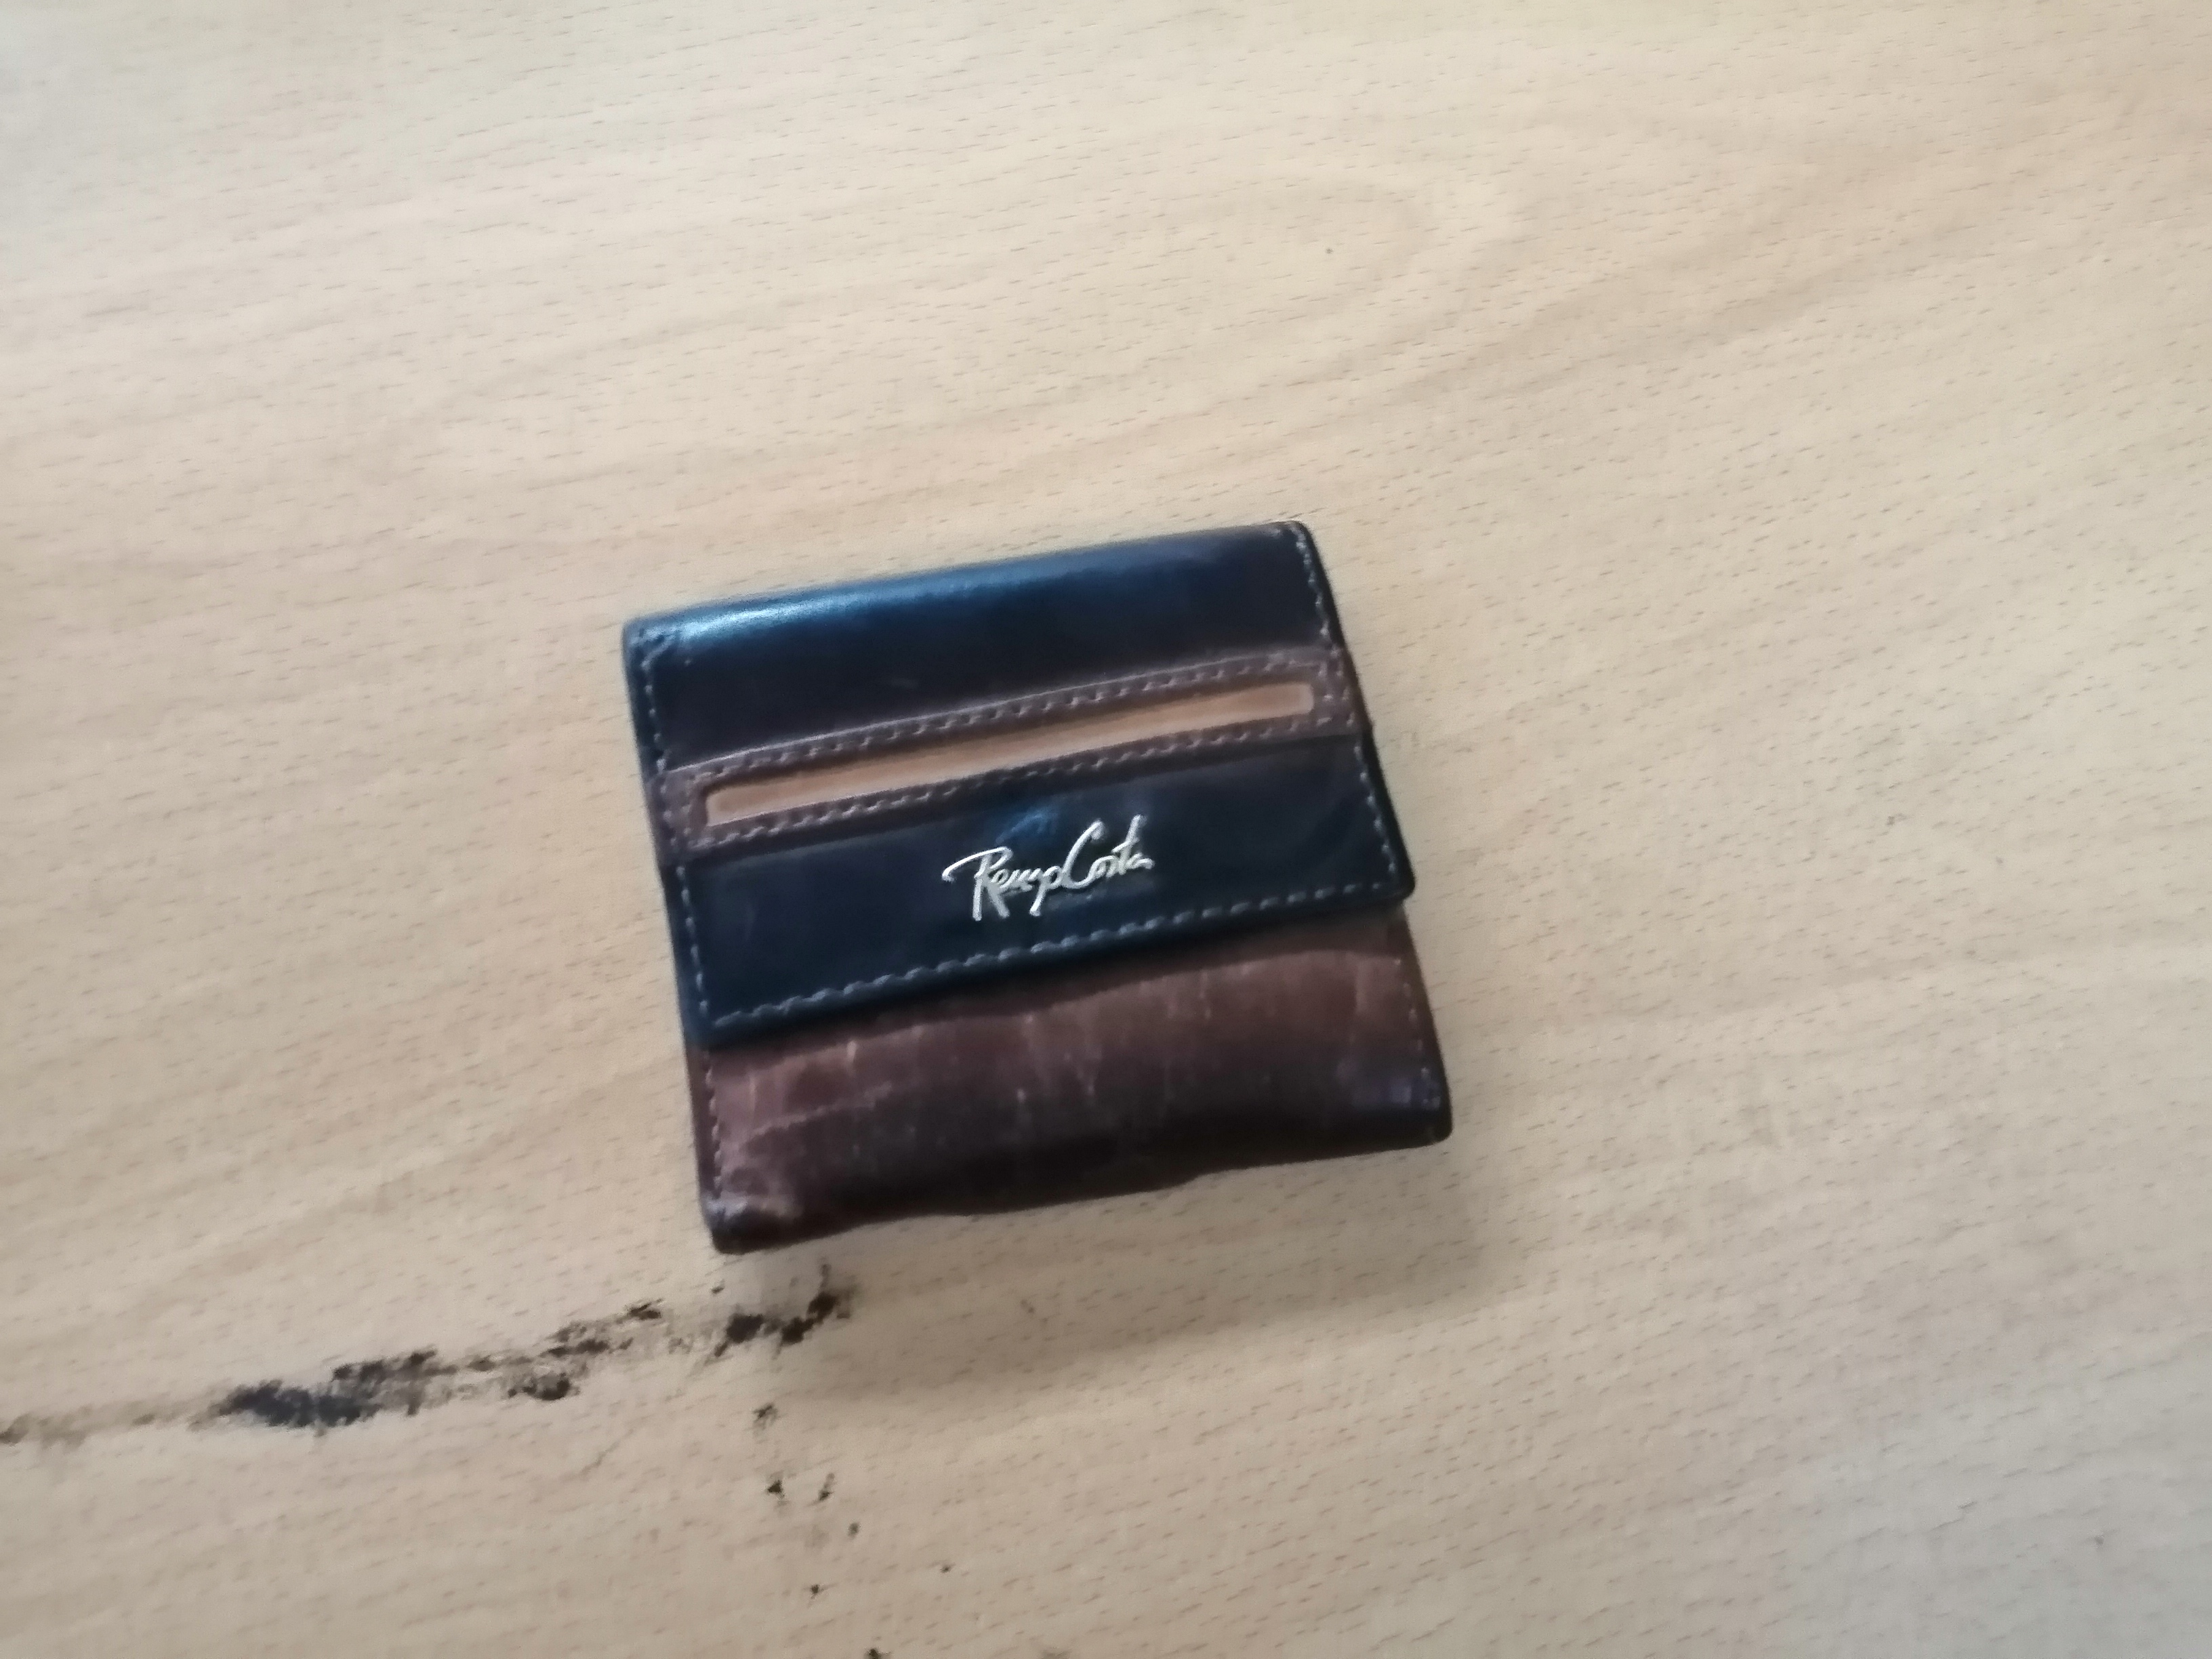monedero: (610, 509, 1482, 1262)
